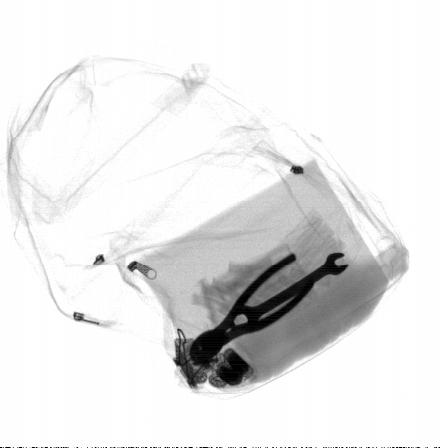Pliers: (189, 251, 315, 366)
Wrench: (230, 250, 348, 331)
